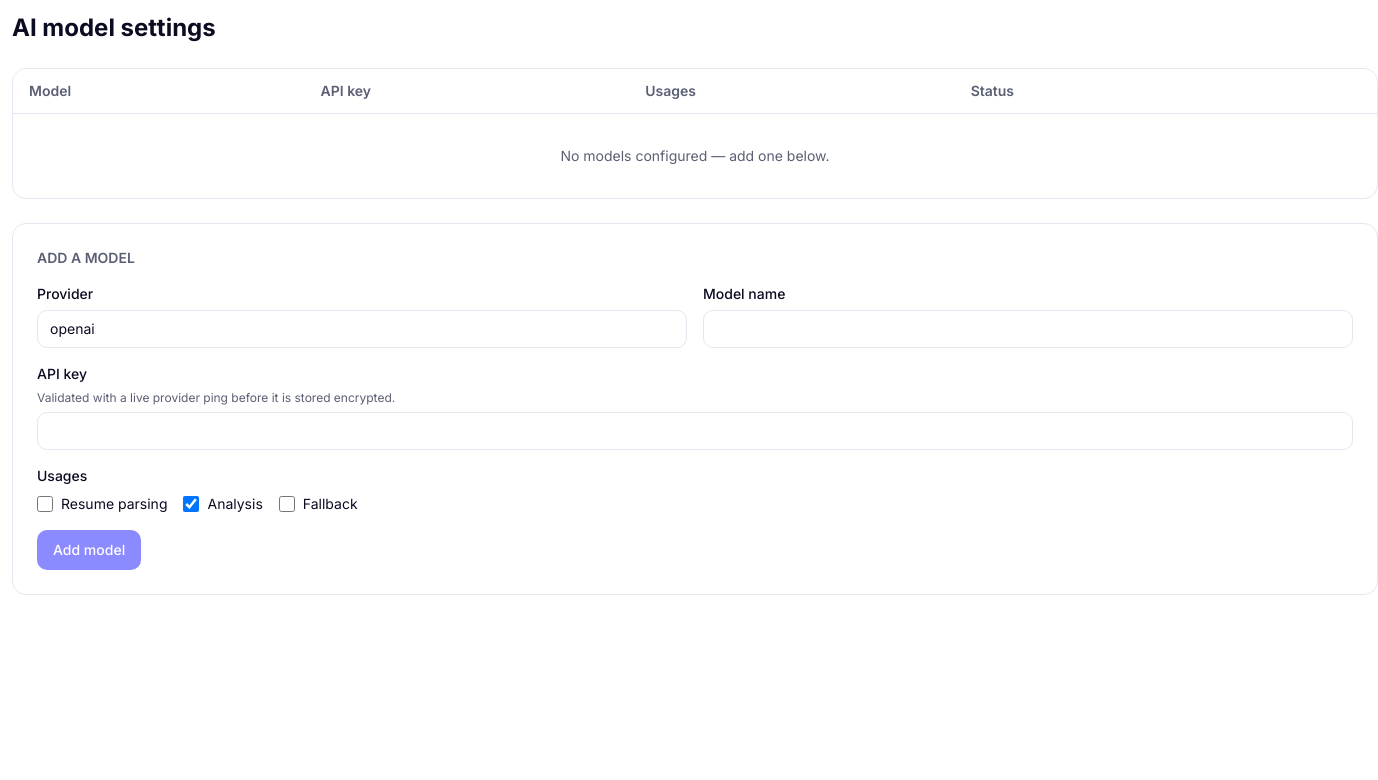
Scenario: AdminSettingsPage › surfaces an inline error when the API key fails validation
Type "gpt-4o" into the field labelled "Model name".
click(1028, 329); type("gpt-4o")  # box [703,310,1353,348]
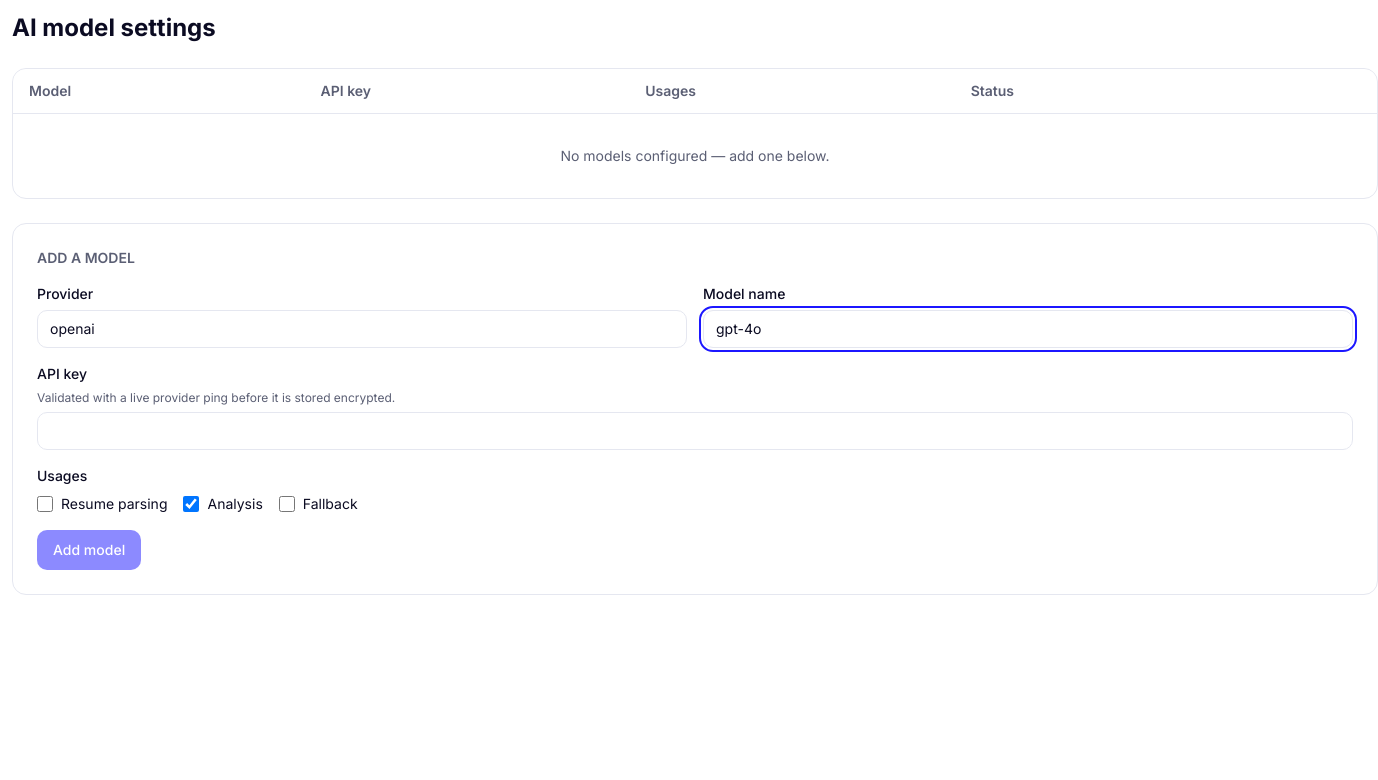
Type "sk-bad-key" into the password field labelled "API key".
click(695, 431); type("sk-bad-key")  # box [37,412,1353,450]
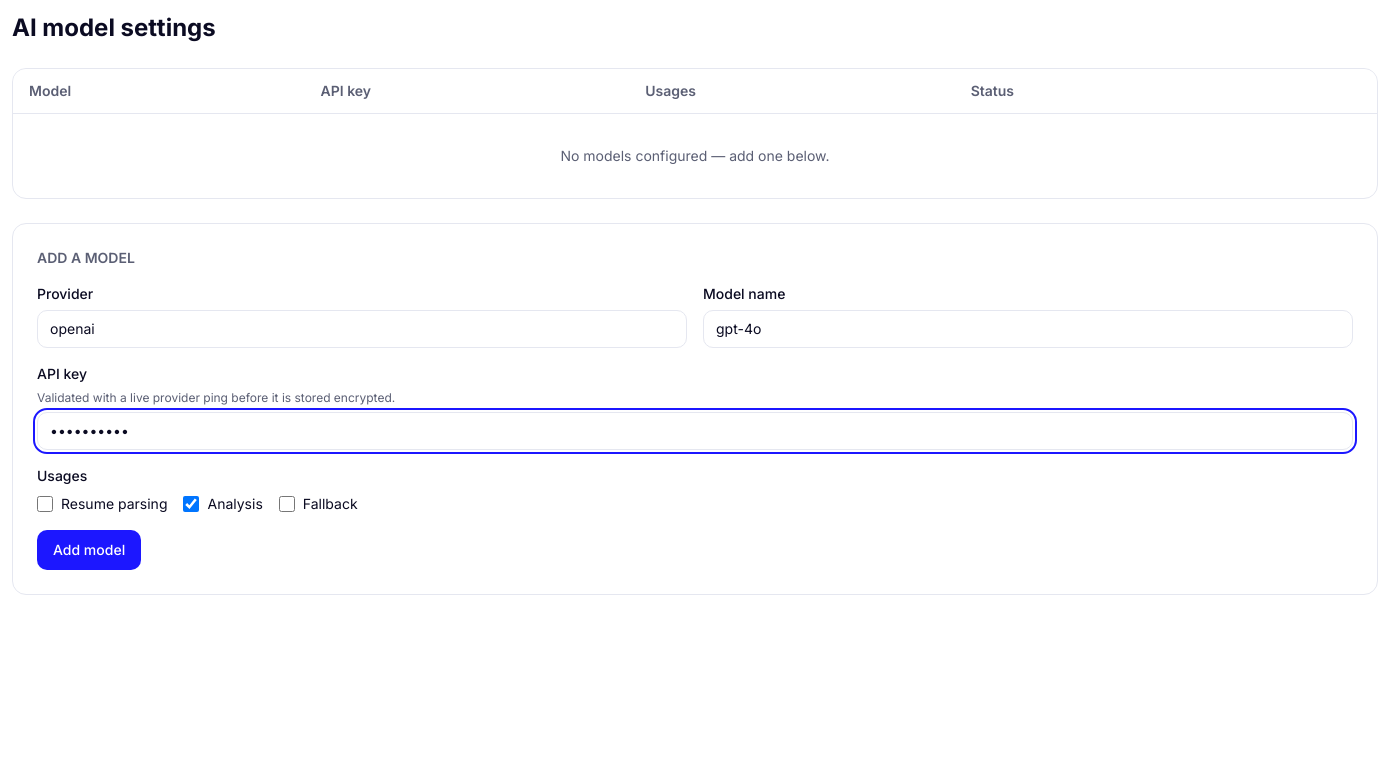
Click the button "Add model".
click(89, 550)  # box [37,530,141,570]
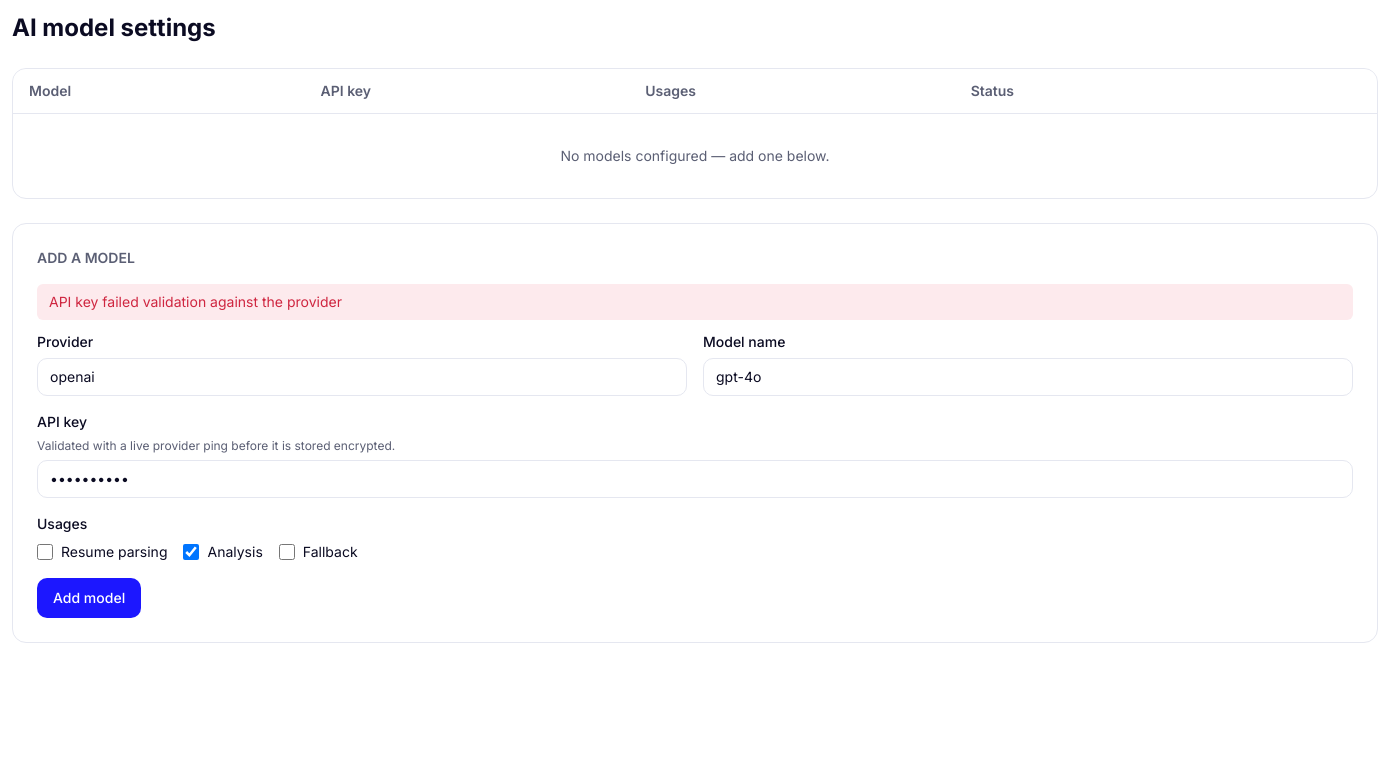
Expected: the text "API key failed validation against the provider" is shown, [37,284,1353,320]
